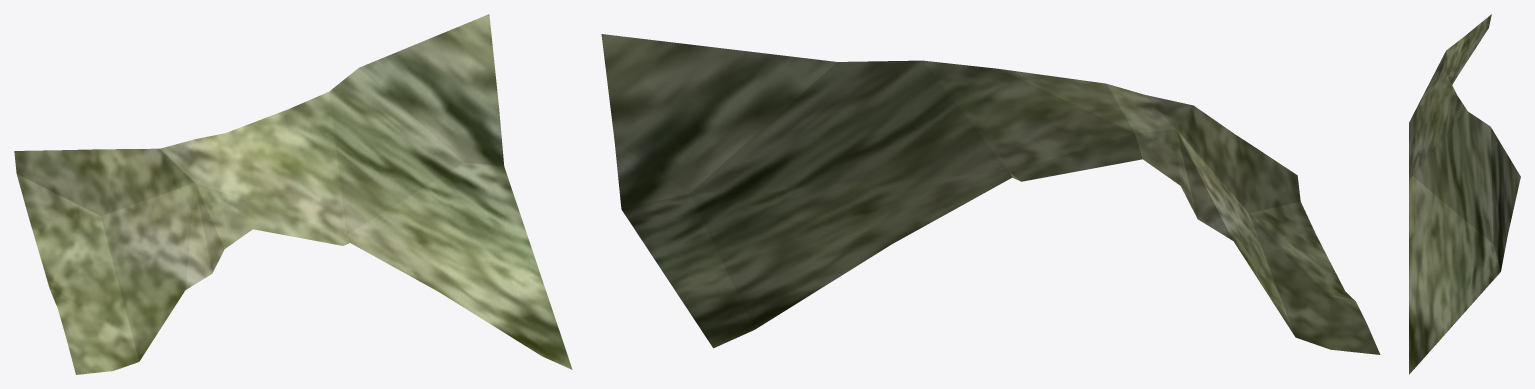
The picture shows the model from 3 angles, left to right: view 1: azimuth 30°, elevation 25°; view 2: azimuth 150°, elevation 25°; view 3: azimuth 270°, elevation 25°; orthographic projection. The views are drawn at different scales.
Bounding box in the file's own units: 2.95 × 1.67 × 0.8569.
1 material, 1 textured.
